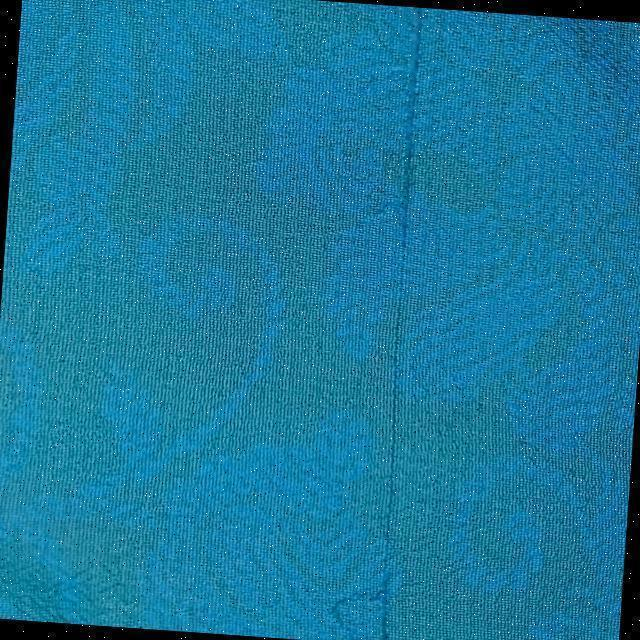pulled_or_thick_thread: (373, 6, 427, 640)
